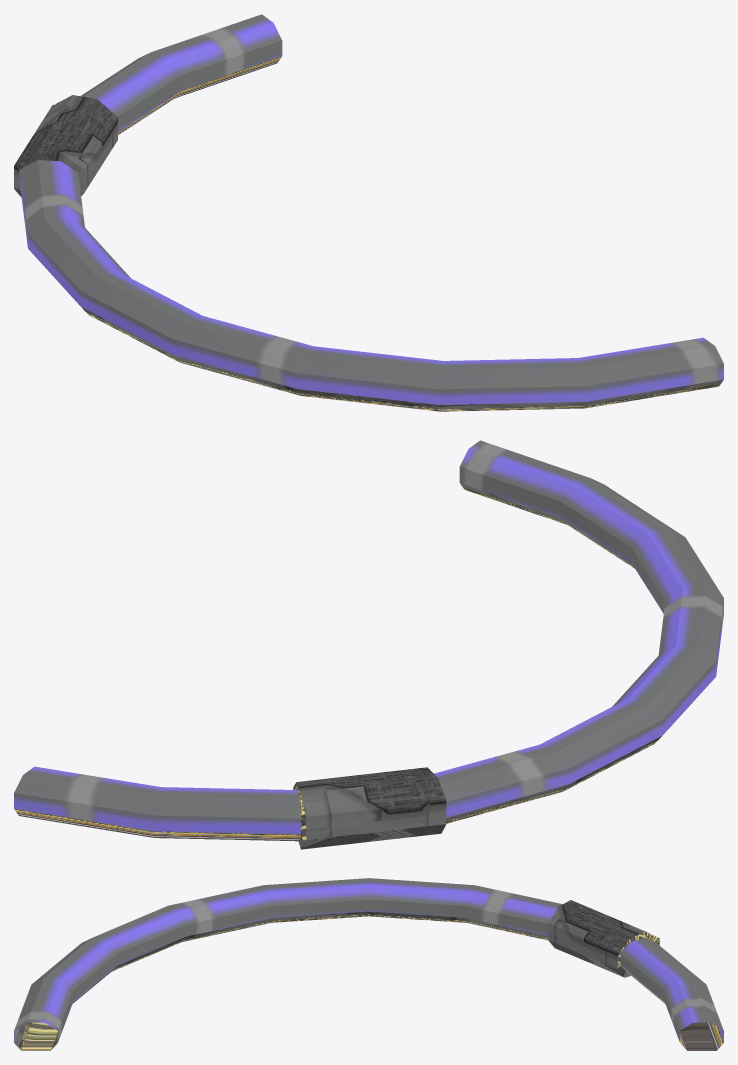
File: pm-pipe-02.glb
The picture shows the model from 3 angles, top to bottom: view 1: azimuth 30°, elevation 25°; view 2: azimuth 150°, elevation 25°; view 3: azimuth 270°, elevation 25°; orthographic projection. The views are drawn at different scales.
Parts seen in each view (by area): view 1: Pipe_02; view 2: Pipe_02; view 3: Pipe_02.
Part boxes in pixels (x1,y1,x2,y2): Pipe_02: [14, 14, 723, 411]; Pipe_02: [14, 440, 723, 849]; Pipe_02: [14, 878, 723, 1050].
Size of the model in its own units: 2.3 by 0.2801 by 4.6.
1 material, 1 textured.
